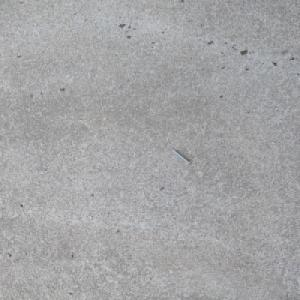Screw: (170, 148, 192, 164)
